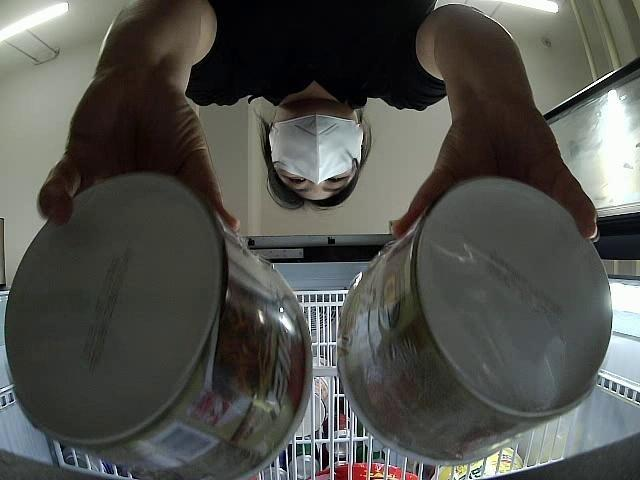03_chapagetti_L: (4, 176, 313, 480), (336, 177, 611, 464)
